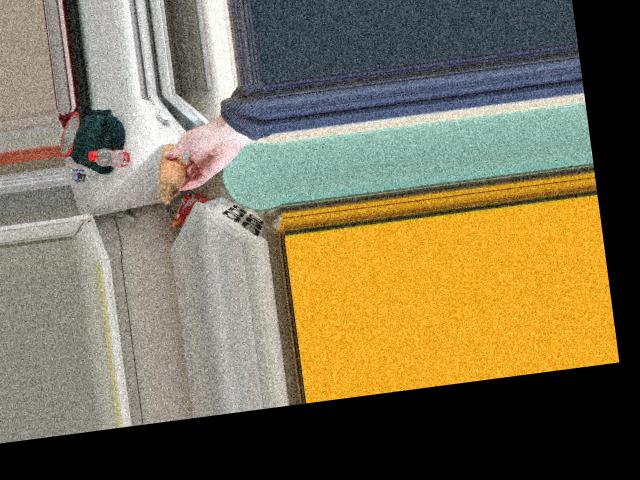sweet_potato: (154, 146, 186, 193)
